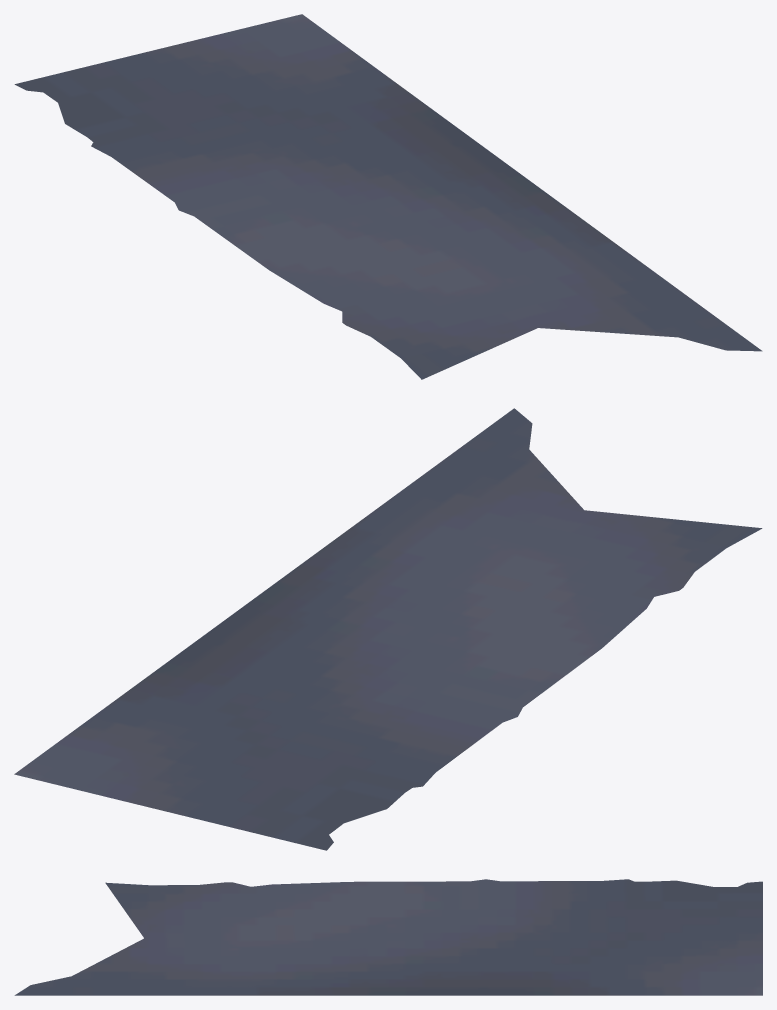
Rendered from WaterPlane_Cc.fbx.
The picture shows the model from 3 angles, top to bottom: view 1: azimuth 30°, elevation 25°; view 2: azimuth 150°, elevation 25°; view 3: azimuth 270°, elevation 25°; orthographic projection. The views are drawn at different scales.
Visible parts, largest first — view 1: SM_ENV_AMVLLG02_WaterPlane_Cc.mo; view 2: SM_ENV_AMVLLG02_WaterPlane_Cc.mo; view 3: SM_ENV_AMVLLG02_WaterPlane_Cc.mo.
Part boxes in pixels (x1,y1,x2,y2): SM_ENV_AMVLLG02_WaterPlane_Cc.mo: [14, 14, 762, 379]; SM_ENV_AMVLLG02_WaterPlane_Cc.mo: [14, 408, 762, 850]; SM_ENV_AMVLLG02_WaterPlane_Cc.mo: [14, 879, 762, 995].
Bounding box in the file's own units: 5214 × 0.00276 × 14161.
